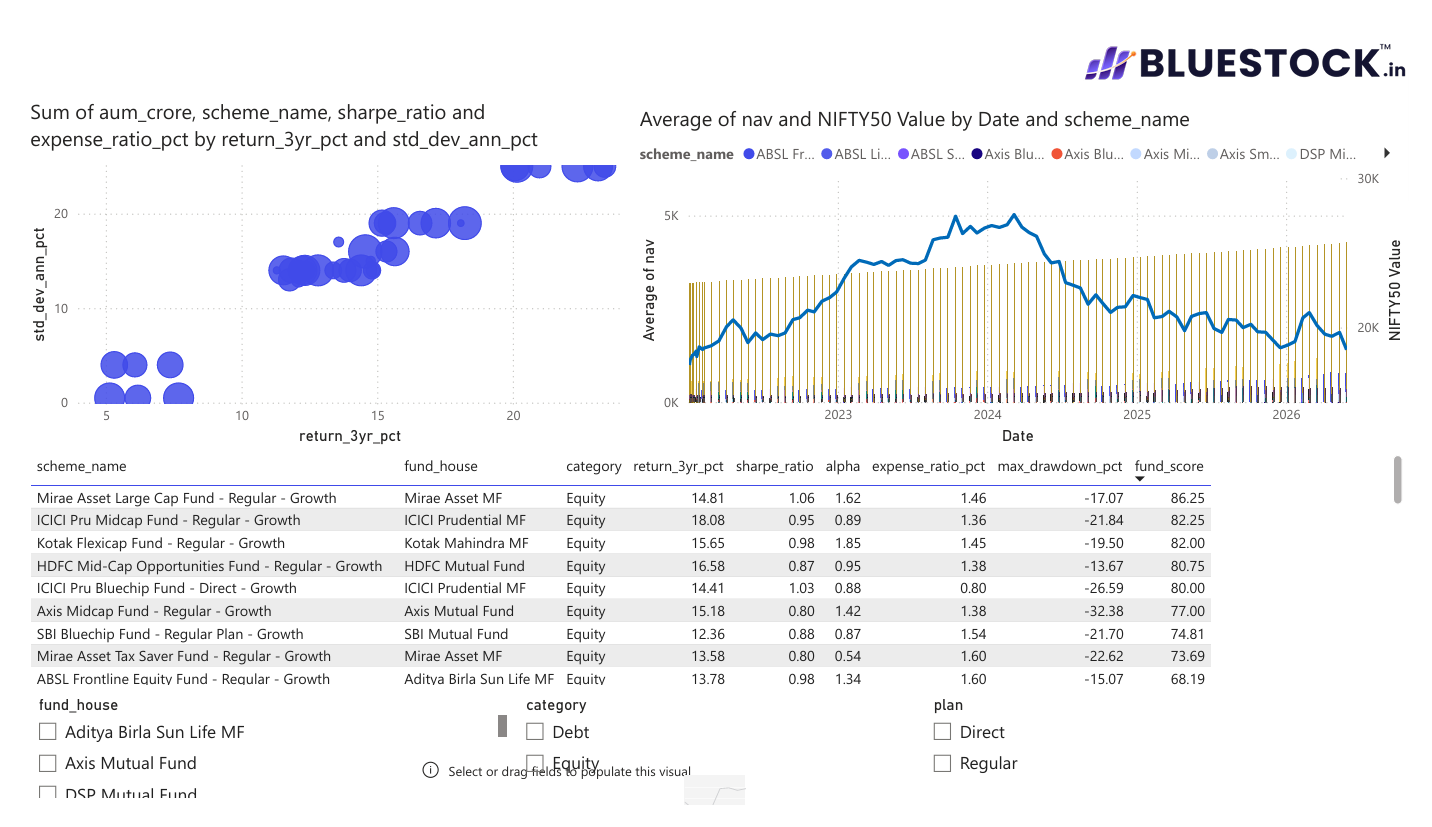

The dashboard page shown, as its layout file describes it:
{"tool":"powerbi","page":{"name":"Page 2","canvas":[1280,720],"ordinal":1},"visuals":[{"type":"scatterChart","fields":{"X":["scheme_performance_clean.return_3yr_pct"],"Y":["scheme_performance_clean.std_dev_ann_pct"],"Size":["Sum(scheme_performance_clean.aum_crore)"]},"box":[0,65.6,564.4,326.7],"z":0},{"type":"tableEx","fields":{"Values":["scheme_performance_clean.scheme_name","fund_master_clean.fund_house","fund_master_clean.category","scheme_performance_clean.return_3yr_pct","scheme_performance_clean.sharpe_ratio","scheme_performance_clean.alpha","fund_master_clean.expense_ratio_pct","scheme_performance_clean.max_drawdown_pct","fund_scorecard.fund_score"]},"box":[0,392.2,1280,222.2],"z":1000},{"type":"lineClusteredColumnComboChart","fields":{"Series":["fund_master_clean.scheme_name"],"Y":["Avg(nav_history_clean.nav)"],"Y2":["fund_master_clean.NIFTY50 Value"],"Category":["Date_Dim.Date"]},"box":[564.4,73.3,715.6,318.9],"z":2000},{"type":"slicer","fields":{"Values":["fund_master_clean.fund_house"]},"box":[0,614.9,451.4,105.4],"z":4000},{"type":"slicer","fields":{"Values":["fund_master_clean.category"]},"box":[815,615,376.7,105],"z":5000},{"type":"slicer","fields":{"Values":["fund_master_clean.plan"]},"box":[363.3,615,451.7,105],"z":6000},{"type":"image","box":[980,0,300,65.6],"z":7000}]}

Visuals, with their boxes in screenshot pixels (x1, y1, x2, y2), scaled from the page's 1280x720 canvas onto the 1432x827 screenshot:
scatterChart - scheme_performance_clean.return_3yr_pct x scheme_performance_clean.std_dev_ann_pct: [0,75,631,451]
tableEx - scheme_performance_clean.scheme_name x fund_master_clean.fund_house: [0,450,1431,706]
lineClusteredColumnComboChart - fund_master_clean.scheme_name x Avg(nav_history_clean.nav): [631,84,1431,450]
slicer - fund_master_clean.fund_house: [0,706,505,826]
slicer - fund_master_clean.category: [912,706,1333,826]
slicer - fund_master_clean.plan: [406,706,912,826]
image: [1096,0,1431,75]
